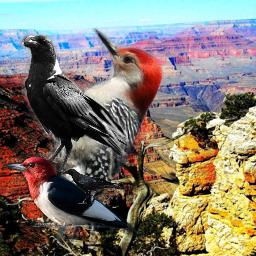Crow: (18, 32, 128, 172), (61, 168, 120, 204)
Woodpecker: (13, 24, 170, 253), (0, 154, 146, 241)
